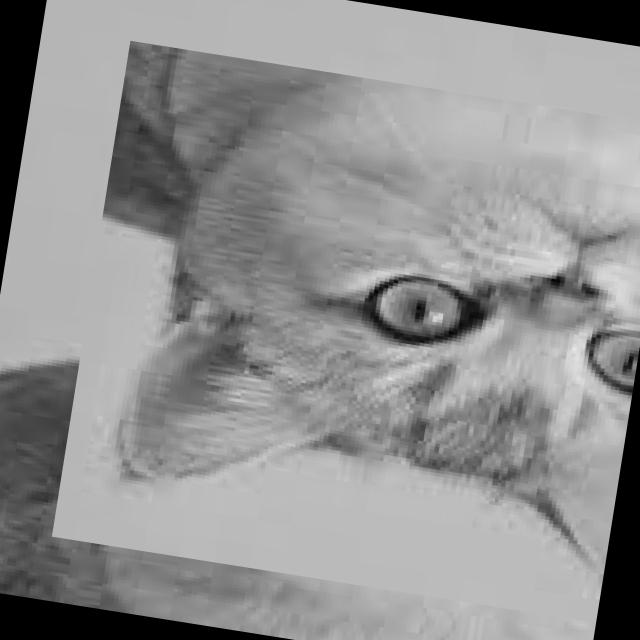british: (51, 41, 640, 623)
